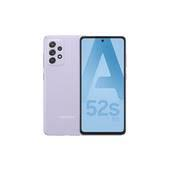Smartphone: (40, 32, 83, 138), (81, 36, 125, 134)
